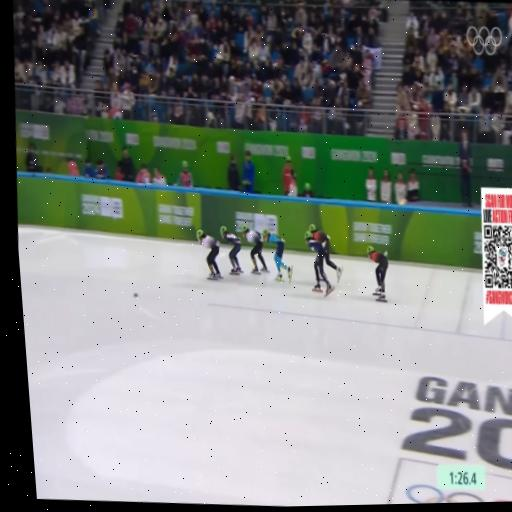Skater: (309, 224, 342, 282), (305, 232, 334, 296), (262, 230, 293, 283), (241, 224, 268, 274), (197, 230, 222, 280), (367, 246, 388, 301), (220, 226, 243, 274)
